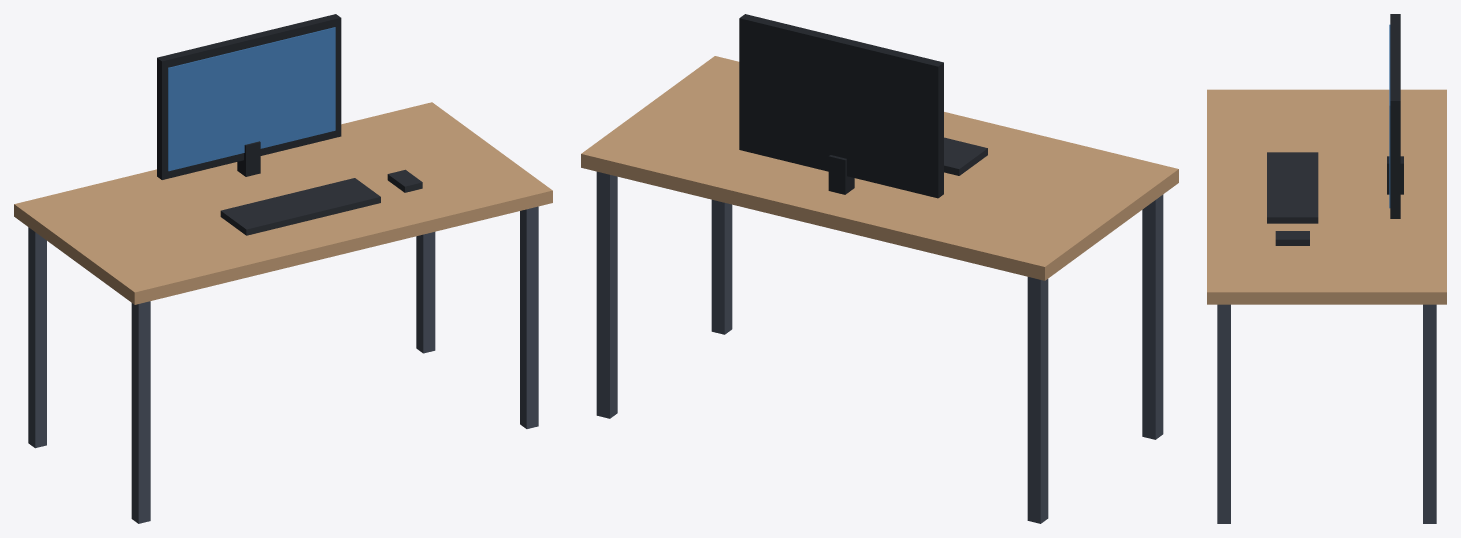
Rendered from computer_desk.glb.
The picture shows the model from 3 angles, left to right: view 1: azimuth 30°, elevation 25°; view 2: azimuth 150°, elevation 25°; view 3: azimuth 270°, elevation 25°; orthographic projection. The views are drawn at different scales.
Visible parts, largest first — view 1: computer_desk; view 2: computer_desk; view 3: computer_desk.
Part boxes in pixels (x1,y1,x2,y2): computer_desk: [14, 14, 552, 523]; computer_desk: [581, 14, 1178, 523]; computer_desk: [1207, 14, 1446, 523].
Size of the model in its own units: 1.4 by 1.19 by 0.7.
